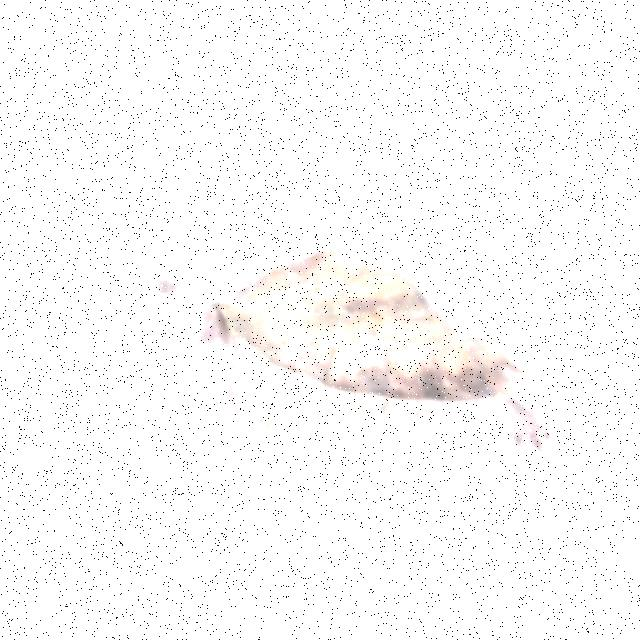tortoise: (146, 238, 558, 457)
